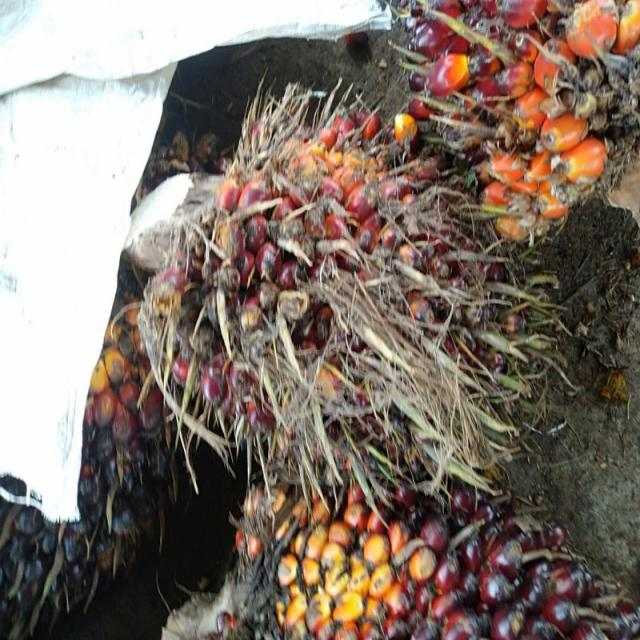fraksi 1: (145, 49, 540, 552)
